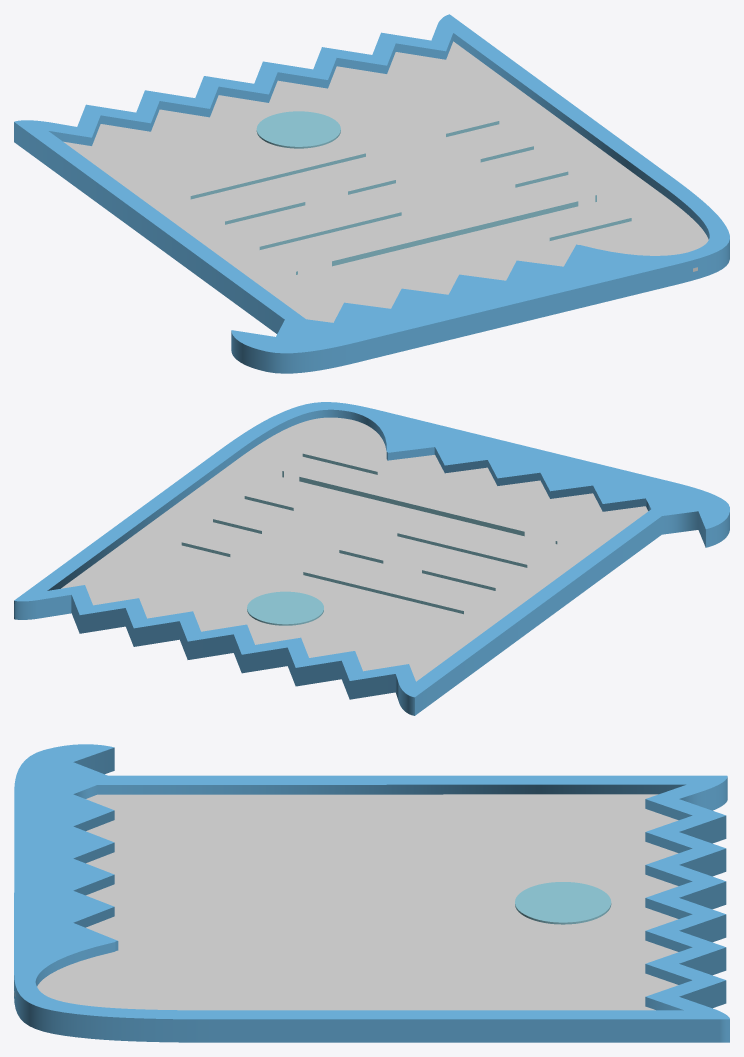
File: emoji_u1f9fe.glb
3 renders of one model, top to bottom at view 1: azimuth 30°, elevation 25°; view 2: azimuth 150°, elevation 25°; view 3: azimuth 270°, elevation 25°, orthographic. The views are drawn at different scales.
Parts seen in each view (by area): view 1: emoji_u1f9fe; view 2: emoji_u1f9fe; view 3: emoji_u1f9fe.
Boxes of the visible parts, bbox=[...] form: emoji_u1f9fe: bbox=[14, 14, 729, 373]; emoji_u1f9fe: bbox=[14, 402, 729, 715]; emoji_u1f9fe: bbox=[14, 744, 729, 1042].
Size of the model in its own units: 0.0305 by 0.0012 by 0.0335.
